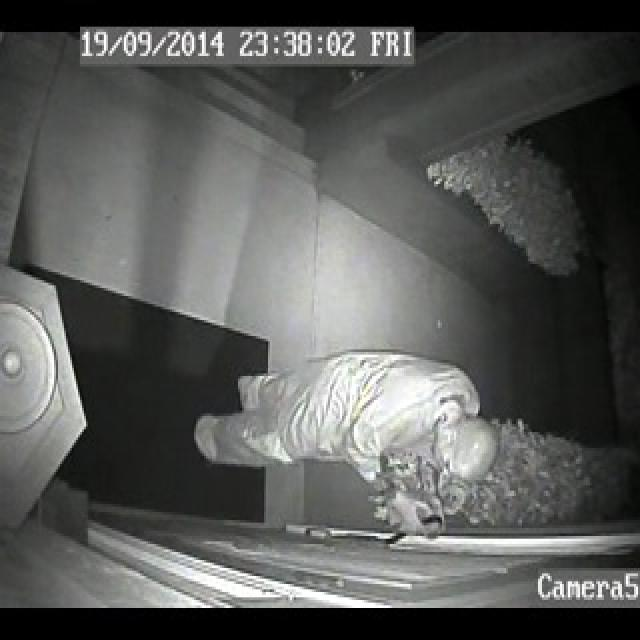thief: (190, 350, 499, 540)
